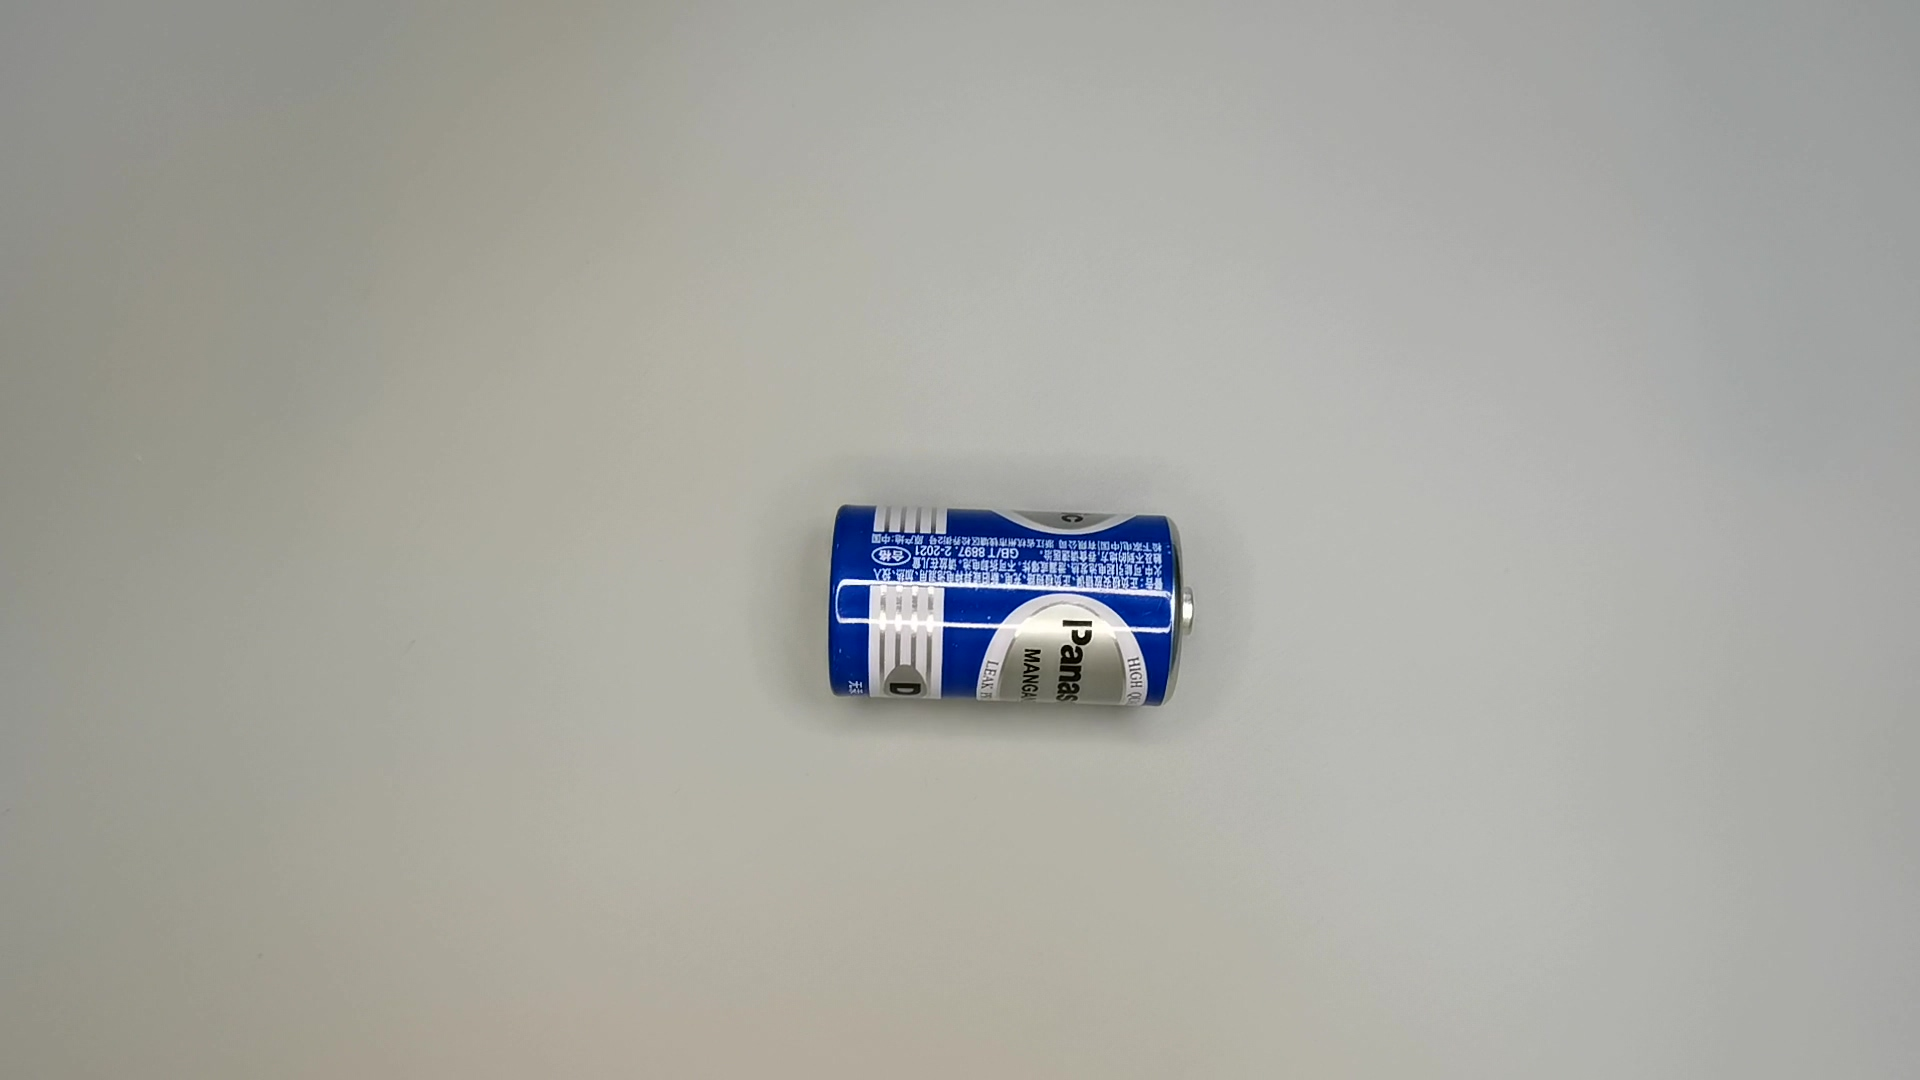battery: (822, 495, 1199, 716)
